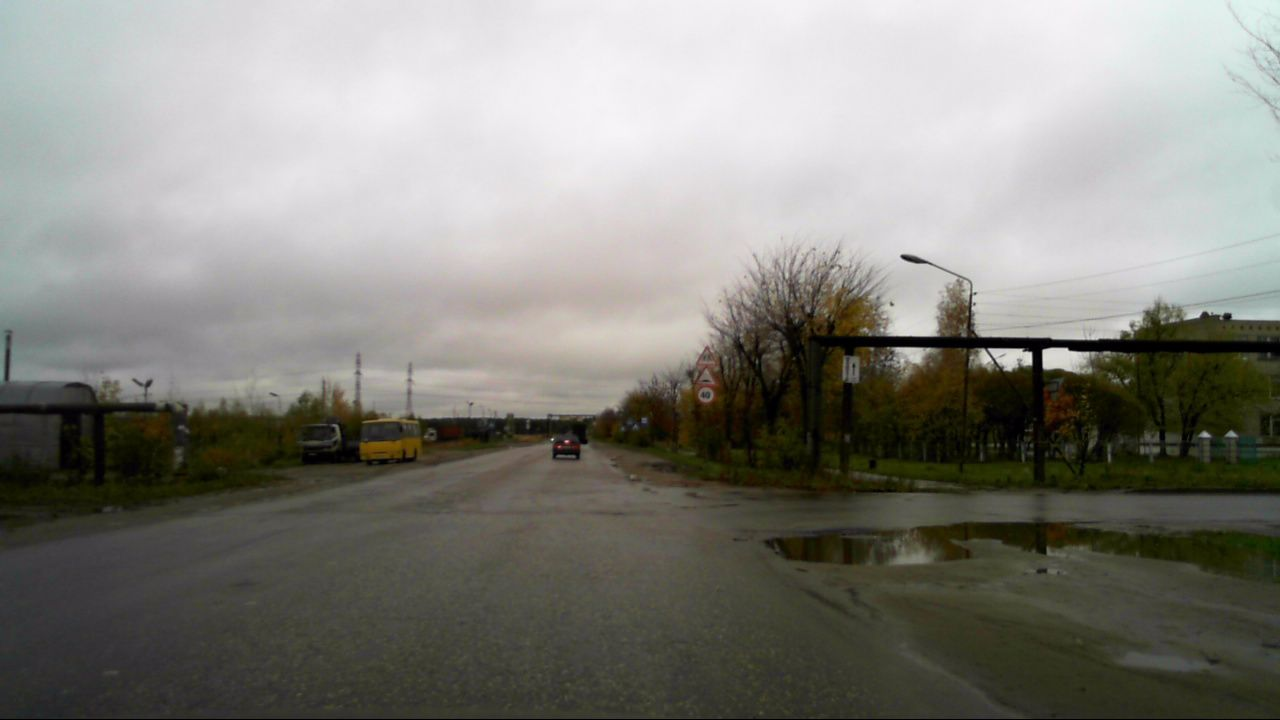speed_warning_40: (696, 386, 716, 405)
